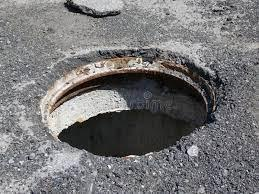open manhole-not overflowing-: (40, 49, 228, 166)
